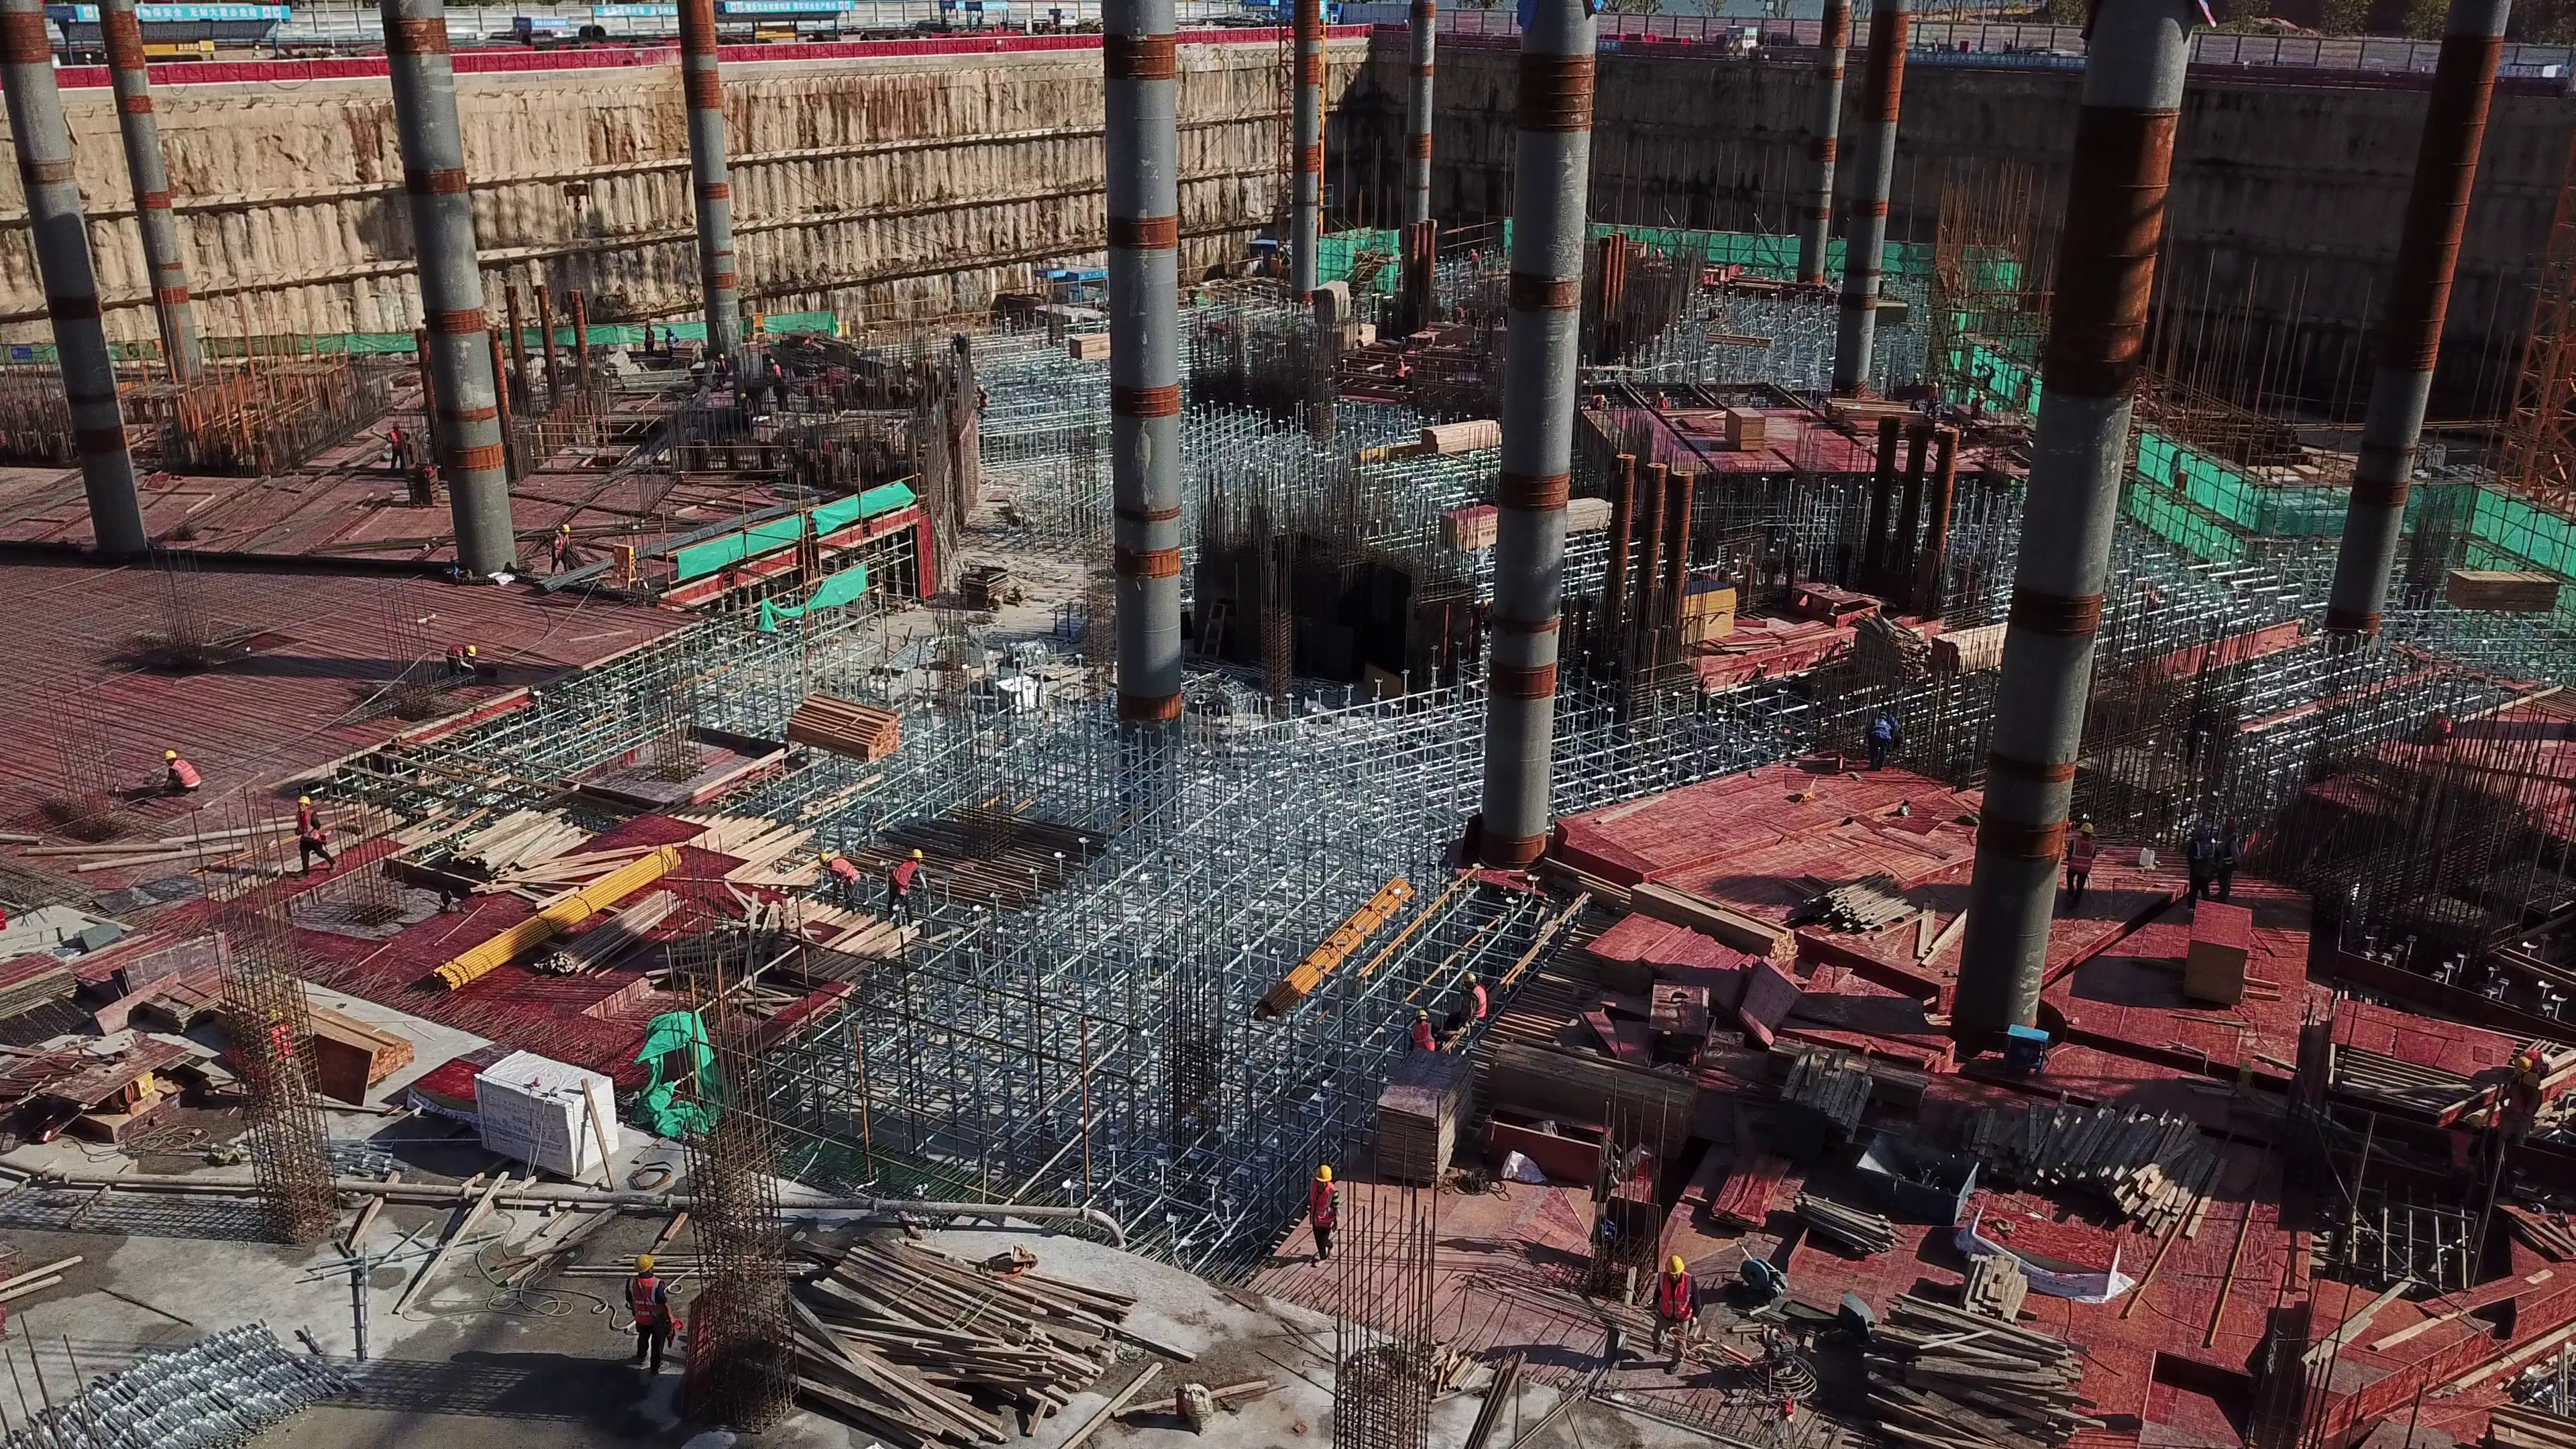board: (1496, 1036, 1736, 1151), (1601, 924, 1758, 1042), (83, 936, 231, 1037), (2178, 900, 2265, 1011), (1385, 1059, 1452, 1178), (5, 952, 74, 1019), (1439, 505, 1495, 557), (1723, 402, 1764, 451)
cutter: (1737, 1244, 1788, 1299)
ebox: (609, 542, 639, 593)
fence: (56, 13, 1401, 86), (1433, 1, 1880, 66), (2180, 22, 2576, 82), (1900, 17, 2097, 76)
helmet: (1312, 1161, 1334, 1185), (1666, 1258, 1686, 1278), (632, 1254, 653, 1271), (906, 846, 923, 863), (816, 852, 836, 867), (2075, 820, 2096, 834), (463, 643, 476, 658), (162, 748, 178, 761), (294, 796, 310, 805)
person: (2487, 1050, 2559, 1170), (613, 1252, 674, 1371), (1297, 1156, 1343, 1260), (1645, 1258, 1689, 1366), (286, 791, 331, 877), (883, 848, 922, 924), (2068, 818, 2101, 906), (823, 848, 860, 912), (1857, 706, 1892, 773), (158, 745, 201, 795), (2184, 822, 2211, 903), (2218, 822, 2246, 897), (1466, 969, 1495, 1032), (1405, 1012, 1440, 1058), (374, 420, 405, 469), (550, 524, 580, 574), (440, 635, 478, 672)
scaffold: (62, 1330, 344, 1449)
slogan: (118, 1, 287, 26), (717, 1, 863, 21), (579, 1, 677, 19)
vest: (628, 1277, 663, 1333), (1658, 1274, 1691, 1318), (2068, 838, 2100, 881), (1305, 1185, 1336, 1228), (172, 760, 207, 792), (1870, 718, 1899, 753), (293, 812, 326, 841), (1406, 1022, 1436, 1052), (829, 856, 862, 881), (893, 863, 916, 892), (1468, 987, 1486, 1021)
wood: (791, 1240, 1071, 1449), (1855, 1281, 2085, 1449), (1976, 1099, 2207, 1237), (221, 987, 388, 1093), (422, 799, 602, 888), (1819, 869, 1967, 969), (1775, 1049, 1874, 1149), (784, 685, 888, 769), (1419, 417, 1486, 452)
